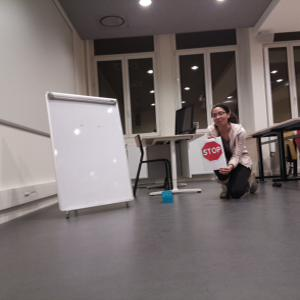stop: (202, 141, 223, 161)
